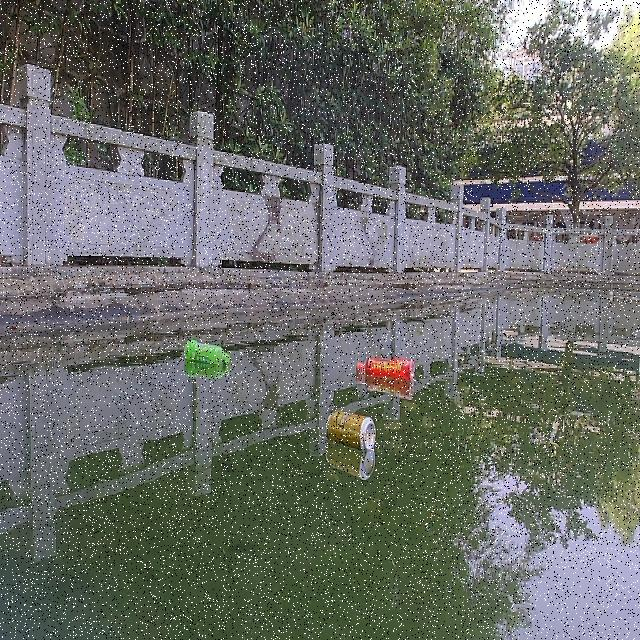Bottle: (178, 332, 230, 369), (353, 352, 415, 381)
Can: (321, 403, 377, 449)
